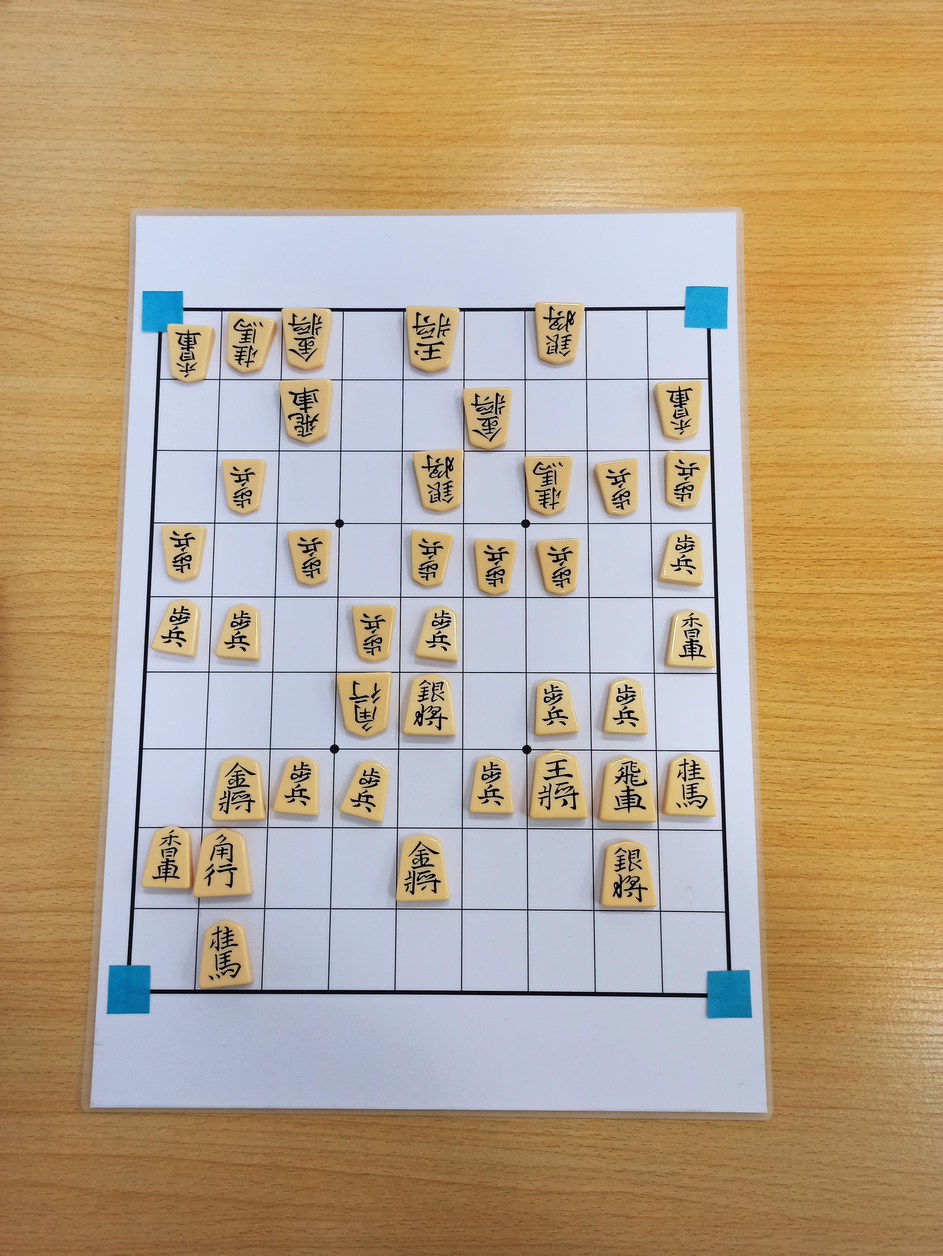board: (127, 308, 730, 997)
